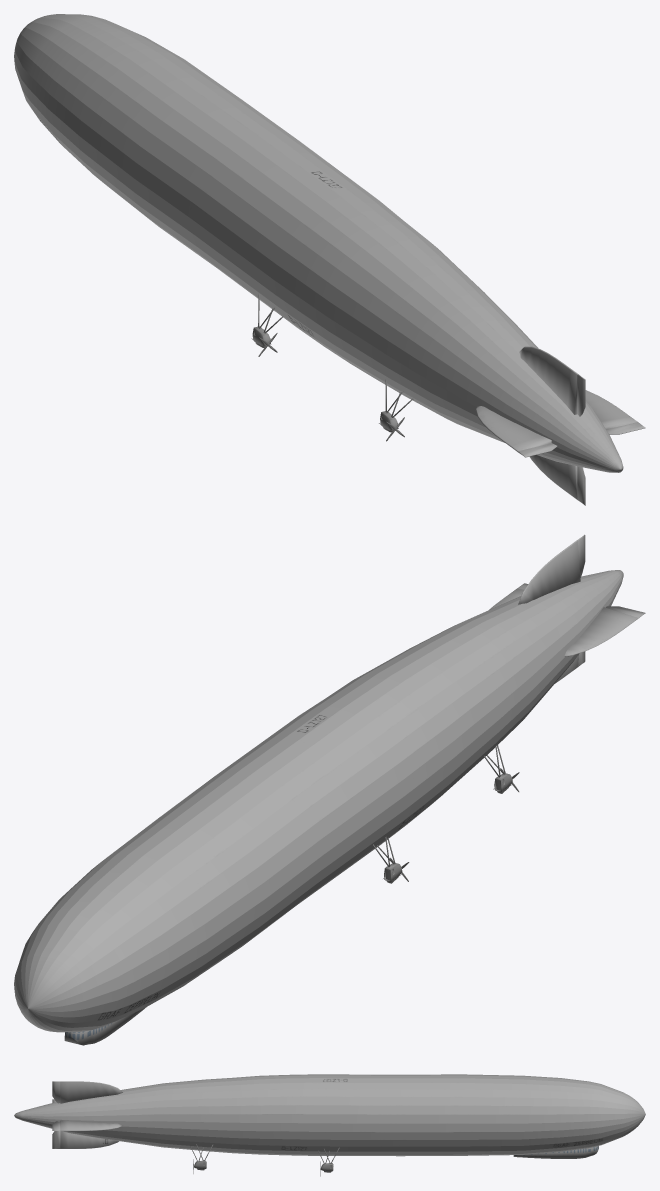
The picture shows the model from 3 angles, top to bottom: view 1: azimuth 30°, elevation 25°; view 2: azimuth 150°, elevation 25°; view 3: azimuth 270°, elevation 25°; orthographic projection. The views are drawn at different scales.
Visible parts, largest first — view 1: Zeppelin; view 2: Zeppelin; view 3: Zeppelin.
Boxes of the visible parts, x1,y1,x2,y2 form: Zeppelin: (14,14,645,505); Zeppelin: (14,534,645,1045); Zeppelin: (14,1074,645,1176).
Size of the model in its own units: 147 by 139 by 1006.
